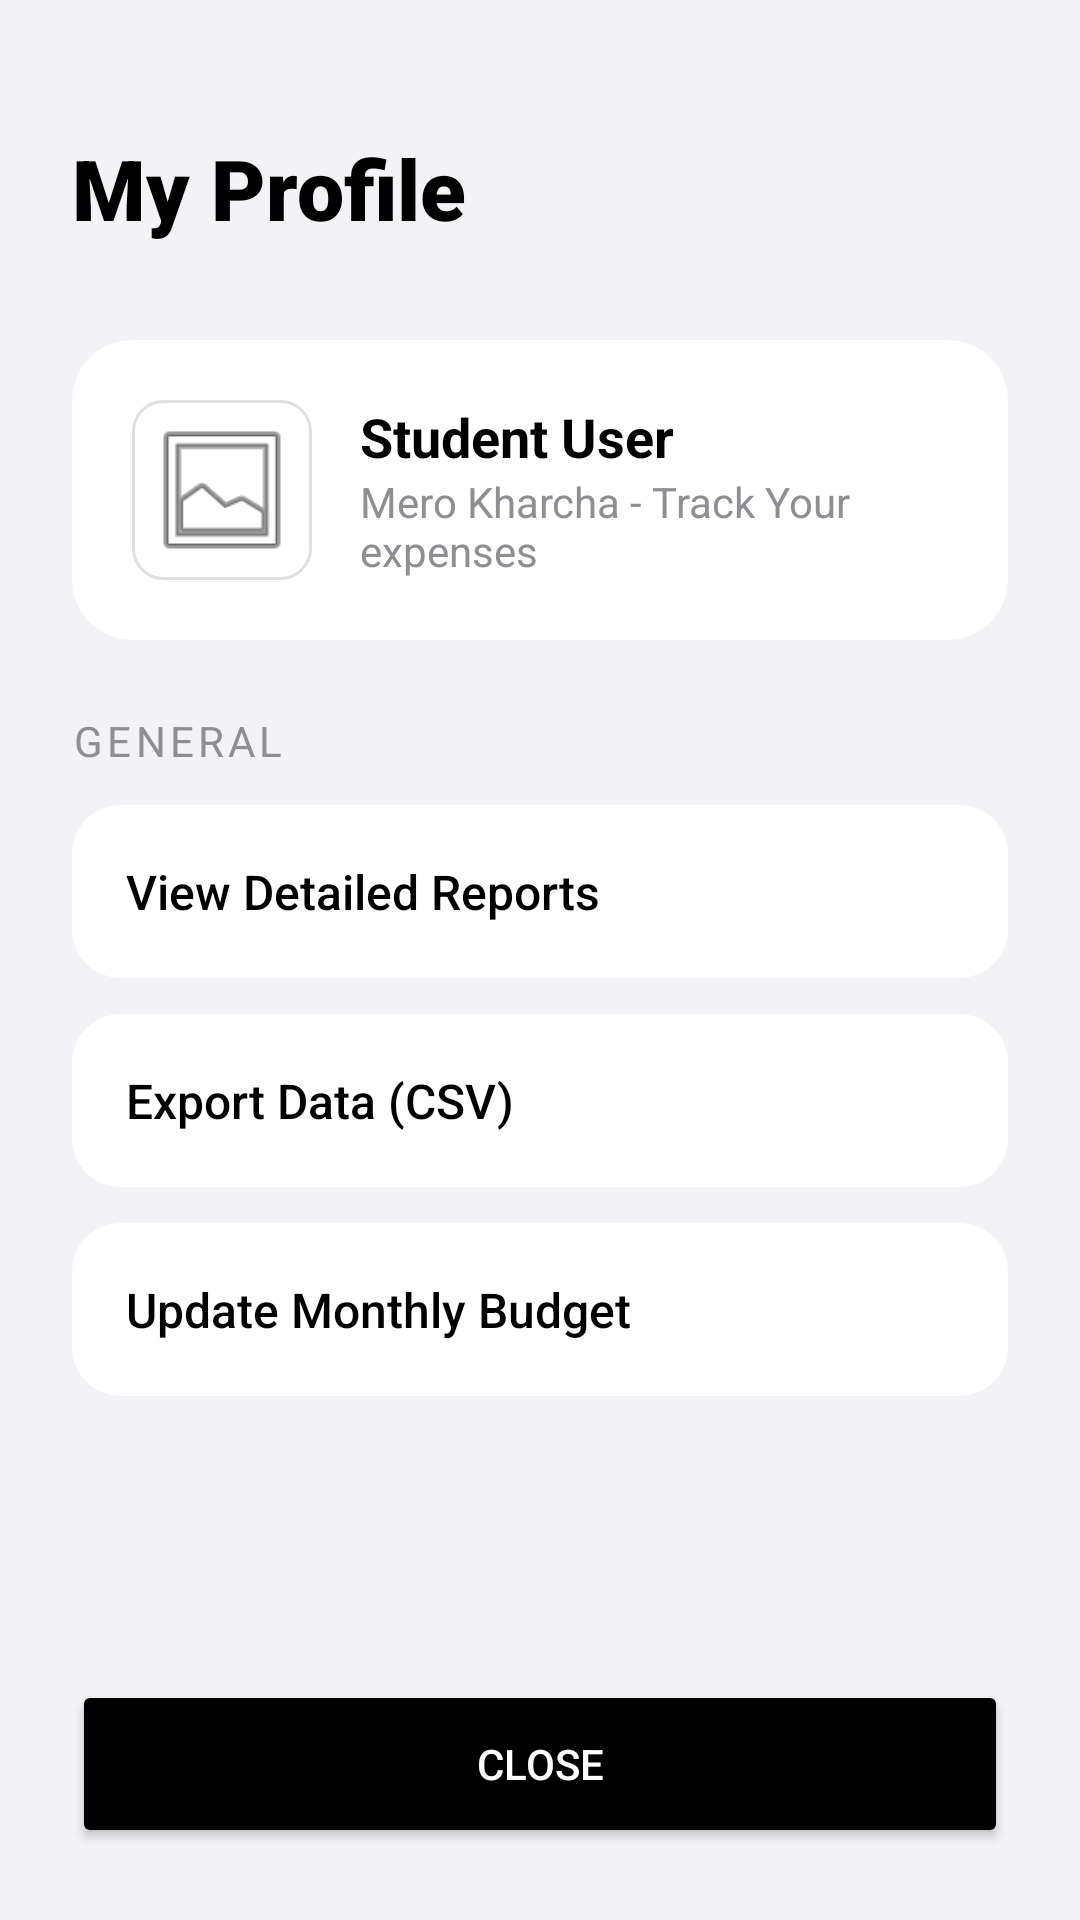

Icon click points for this 1080 × 1920 phone screenshot, format (x,y):
gallery: (222,490)
